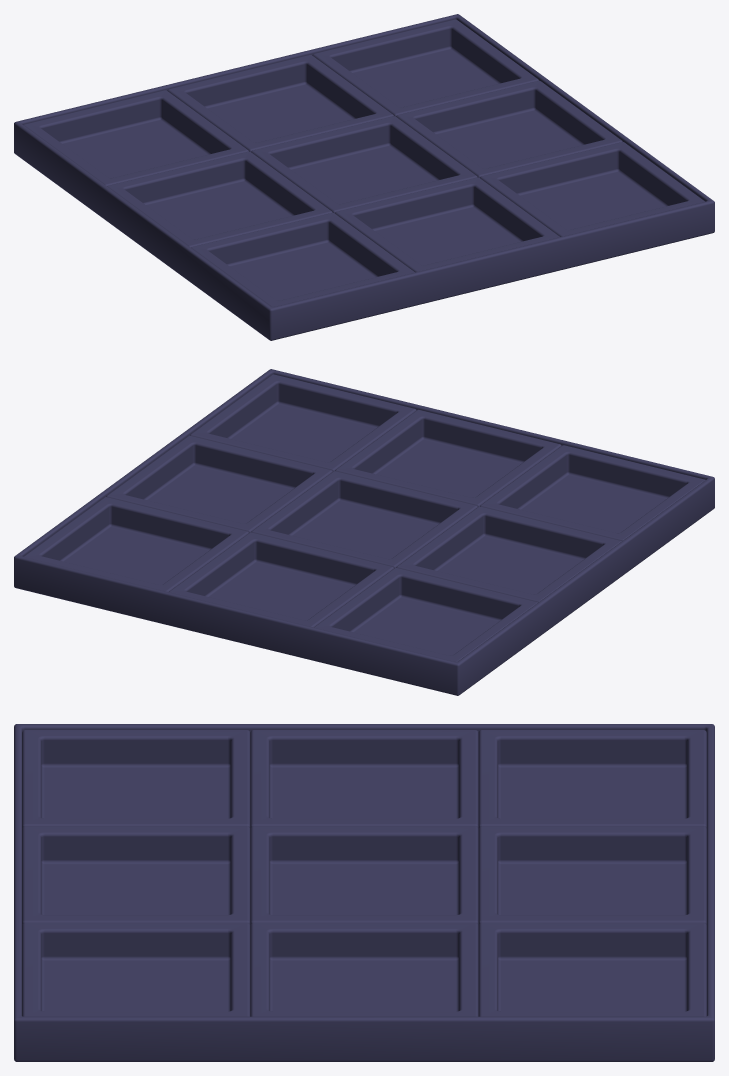
The model's file is SM_Board.fbx.
3 renders of one model, top to bottom at view 1: azimuth 30°, elevation 25°; view 2: azimuth 150°, elevation 25°; view 3: azimuth 270°, elevation 25°, orthographic. The views are drawn at different scales.
Parts seen in each view (by area): view 1: SM_Board_Box_Base, SM_Board_Box_03, SM_Board_Box_06, SM_Board_Box_05, SM_Board_Box_02, SM_Board_Box_04, SM_Board_Box_01, SM_Board_Box_08, SM_Board_Box_09, SM_Board_Box_07; view 2: SM_Board_Box_Base, SM_Board_Box_09, SM_Board_Box_06, SM_Board_Box_05, SM_Board_Box_08, SM_Board_Box_04, SM_Board_Box_07, SM_Board_Box_02, SM_Board_Box_03, SM_Board_Box_01; view 3: SM_Board_Box_Base, SM_Board_Box_04, SM_Board_Box_08, SM_Board_Box_01, SM_Board_Box_02, SM_Board_Box_05, SM_Board_Box_07, SM_Board_Box_06, SM_Board_Box_03, SM_Board_Box_09.
Part boxes in pixels (x1=…): SM_Board_Box_Base: x1=14, y1=14, x2=714, y2=340; SM_Board_Box_03: x1=312, y1=19, x2=538, y2=116; SM_Board_Box_06: x1=396, y1=80, x2=622, y2=177; SM_Board_Box_05: x1=251, y1=116, x2=477, y2=213; SM_Board_Box_02: x1=167, y1=55, x2=393, y2=151; SM_Board_Box_04: x1=107, y1=151, x2=332, y2=247; SM_Board_Box_01: x1=23, y1=90, x2=248, y2=185; SM_Board_Box_08: x1=335, y1=177, x2=559, y2=272; SM_Board_Box_09: x1=480, y1=142, x2=704, y2=236; SM_Board_Box_07: x1=191, y1=212, x2=414, y2=306; SM_Board_Box_Base: x1=14, y1=369, x2=714, y2=695; SM_Board_Box_09: x1=190, y1=374, x2=416, y2=471; SM_Board_Box_06: x1=106, y1=435, x2=332, y2=532; SM_Board_Box_05: x1=251, y1=471, x2=477, y2=568; SM_Board_Box_08: x1=335, y1=409, x2=561, y2=506; SM_Board_Box_04: x1=396, y1=506, x2=621, y2=602; SM_Board_Box_07: x1=480, y1=445, x2=705, y2=540; SM_Board_Box_02: x1=169, y1=532, x2=393, y2=627; SM_Board_Box_03: x1=24, y1=497, x2=248, y2=591; SM_Board_Box_01: x1=314, y1=567, x2=537, y2=661; SM_Board_Box_Base: x1=14, y1=724, x2=714, y2=1061; SM_Board_Box_04: x1=250, y1=730, x2=478, y2=828; SM_Board_Box_08: x1=22, y1=826, x2=250, y2=925; SM_Board_Box_01: x1=478, y1=730, x2=706, y2=828; SM_Board_Box_02: x1=478, y1=826, x2=706, y2=925; SM_Board_Box_05: x1=250, y1=826, x2=478, y2=924; SM_Board_Box_07: x1=22, y1=730, x2=250, y2=828; SM_Board_Box_06: x1=250, y1=923, x2=478, y2=1016; SM_Board_Box_03: x1=478, y1=923, x2=706, y2=1016; SM_Board_Box_09: x1=22, y1=923, x2=250, y2=1016.
Bounding box in the file's own units: 307 × 21.12 × 307.
